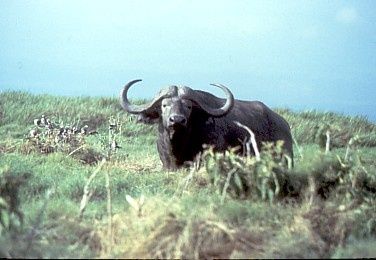buffalo: (206, 127, 376, 223)
